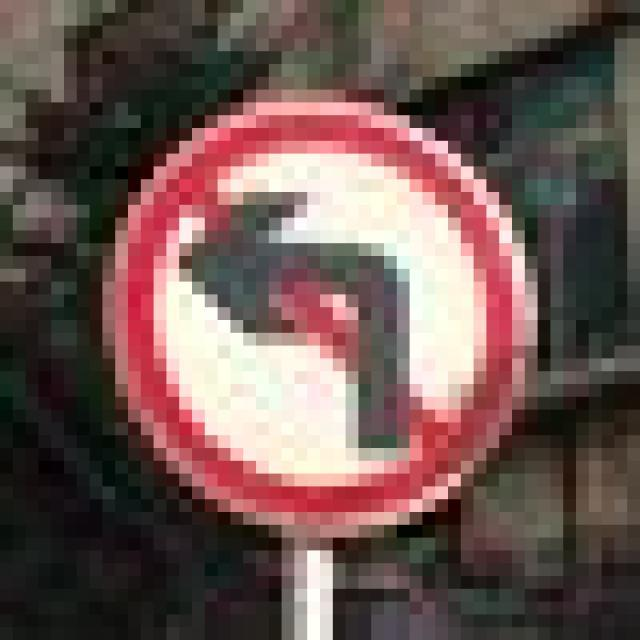left turn prohibited: (104, 94, 536, 542)
